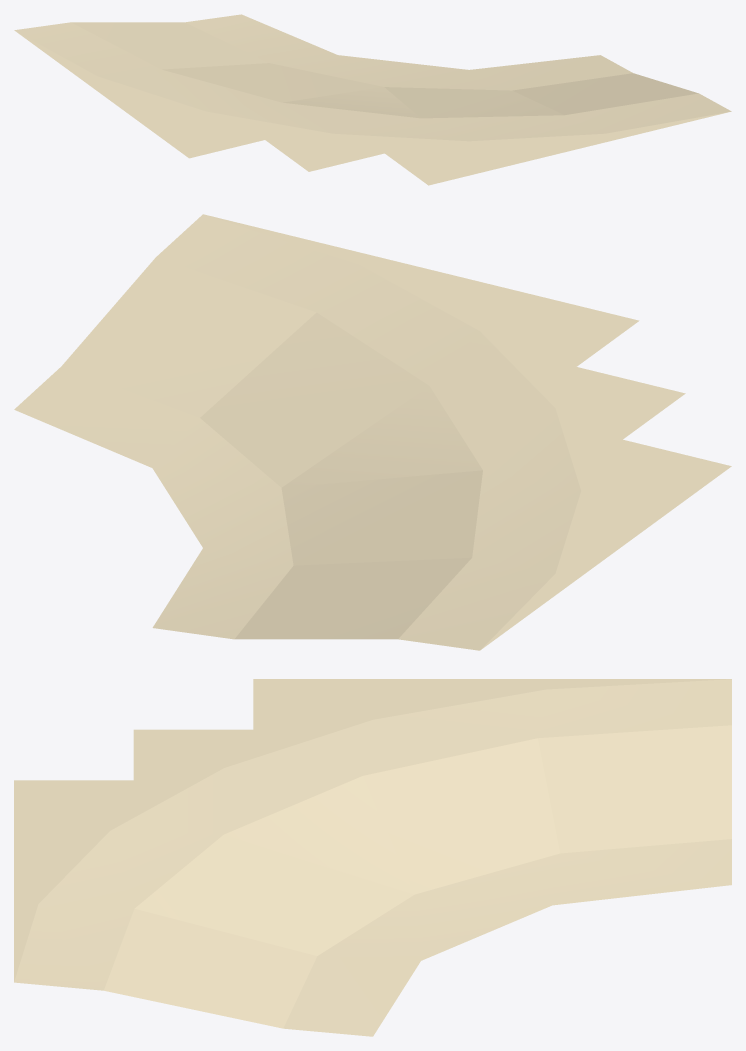
Rendered from Beach_Terrain_Sand_Corner_Inner_4x4.glb.
The picture shows the model from 3 angles, top to bottom: view 1: azimuth 30°, elevation 25°; view 2: azimuth 150°, elevation 25°; view 3: azimuth 270°, elevation 25°; orthographic projection. The views are drawn at different scales.
Parts seen in each view (by area): view 1: Beach_Terrain_Sand_Corner_Inner_4x4; view 2: Beach_Terrain_Sand_Corner_Inner_4x4; view 3: Beach_Terrain_Sand_Corner_Inner_4x4.
Part boxes in pixels (x1=…): Beach_Terrain_Sand_Corner_Inner_4x4: x1=14, y1=14, x2=731, y2=185; Beach_Terrain_Sand_Corner_Inner_4x4: x1=14, y1=214, x2=731, y2=650; Beach_Terrain_Sand_Corner_Inner_4x4: x1=14, y1=679, x2=731, y2=1036.
Size of the model in its own units: 6 by 0.5 by 6.
